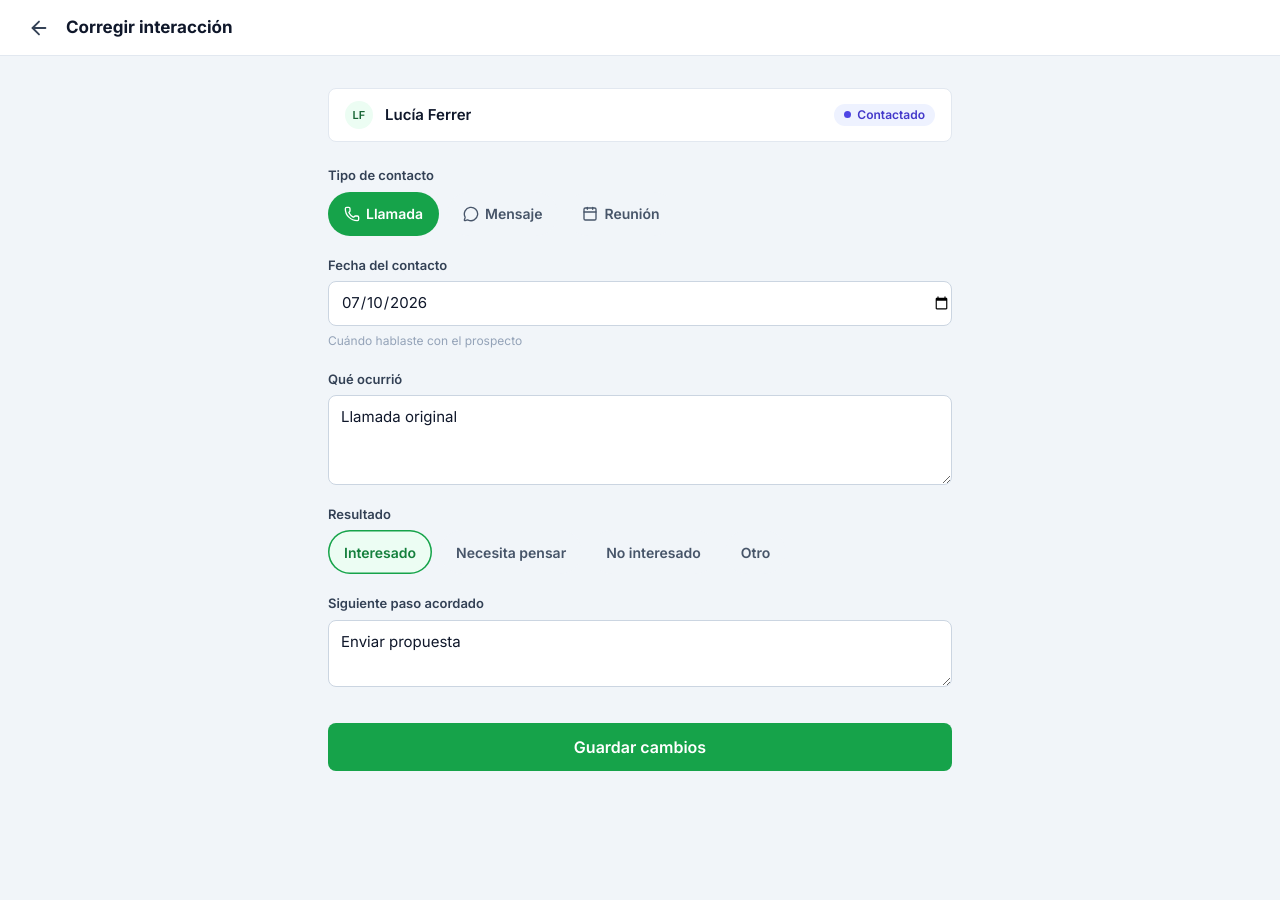
Test: guardado (JOS-80 Trozo B) › VALIDATION_ERROR del servidor con field se mapea inline y conserva lo tecleado
Replace the text in the text box labelled "Qué ocurrió" with "Nuevo texto". click: (640, 440)
box: [328, 395, 952, 484]
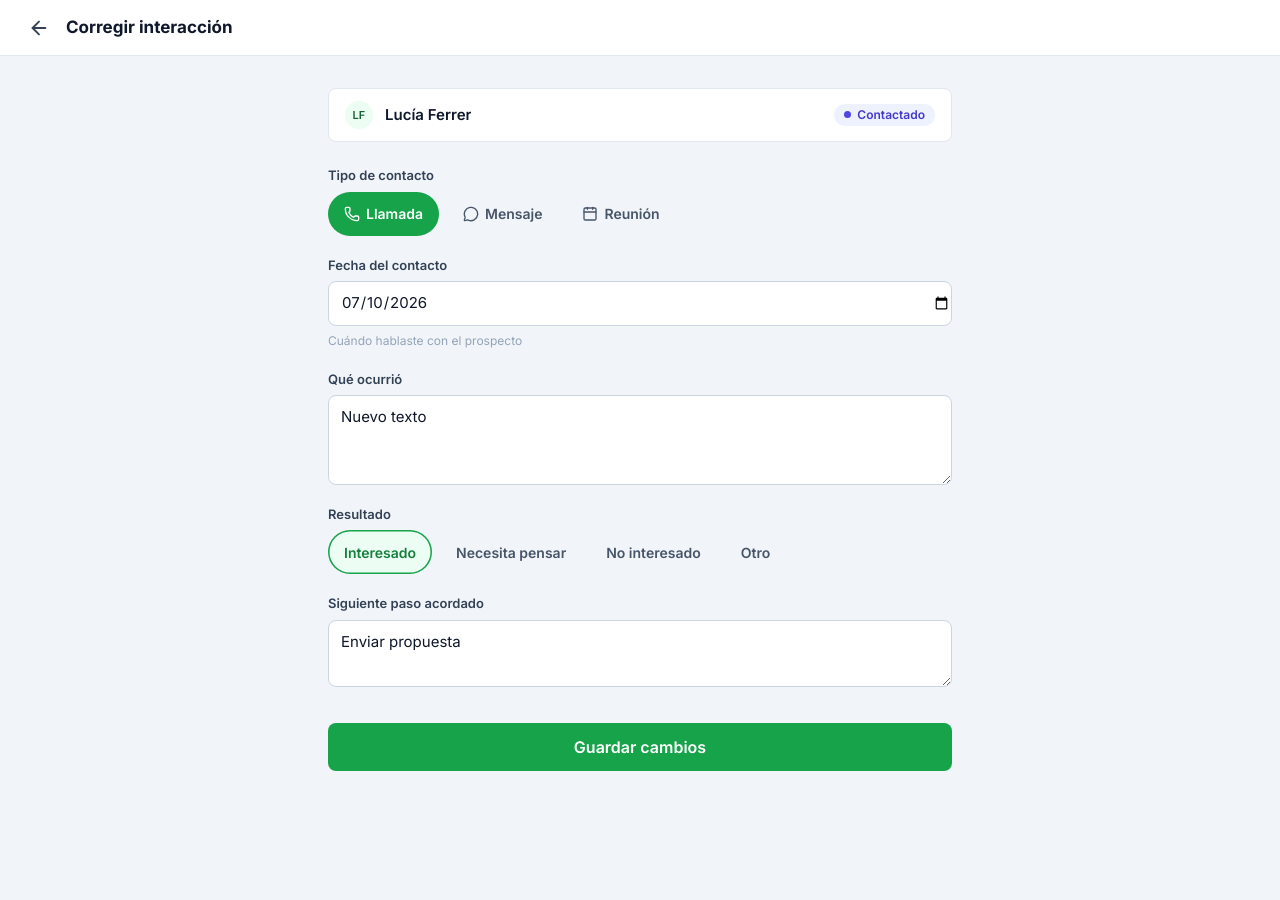
Submit the form, box [304, 56, 976, 786]
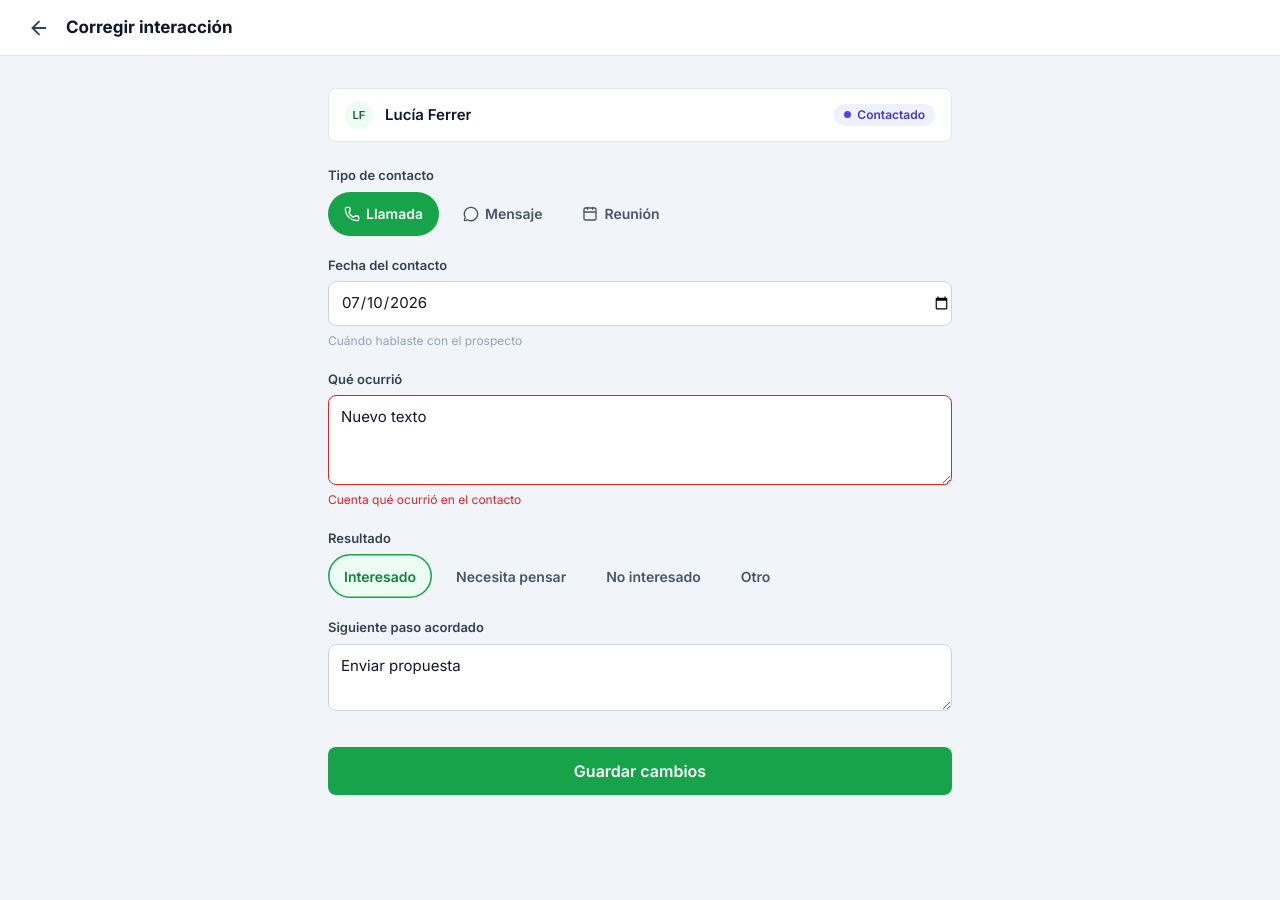
Expected: the text "Cuenta qué ocurrió en el contacto" is shown, [328, 492, 521, 506]
